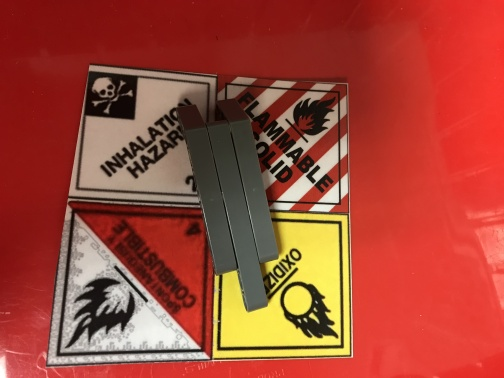FlammableSolid: (217, 75, 352, 214)
InhalationHazard: (71, 63, 218, 208)
Oxidizer: (213, 215, 354, 358)
SpontaneouslyCombustible: (46, 202, 211, 365)
